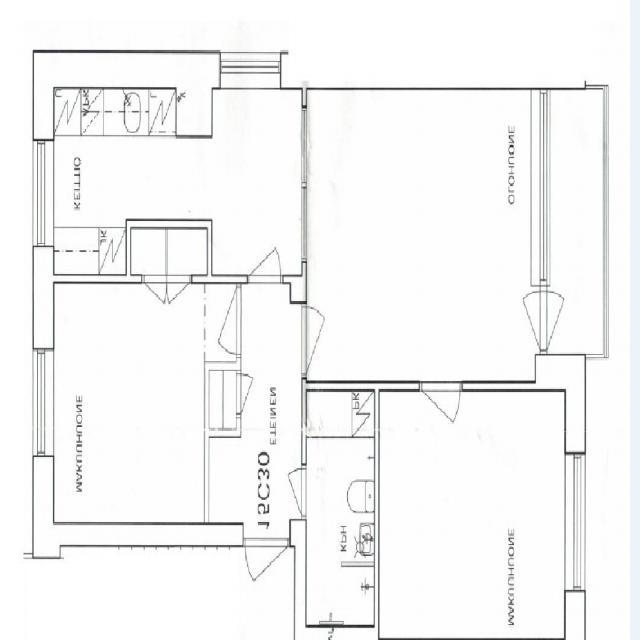door: (245, 522, 287, 620), (531, 290, 584, 350), (497, 290, 550, 350), (422, 381, 460, 457), (198, 287, 241, 354), (302, 307, 343, 372), (249, 219, 281, 282), (275, 468, 306, 517), (237, 373, 264, 414), (167, 275, 190, 322), (144, 275, 166, 322)
